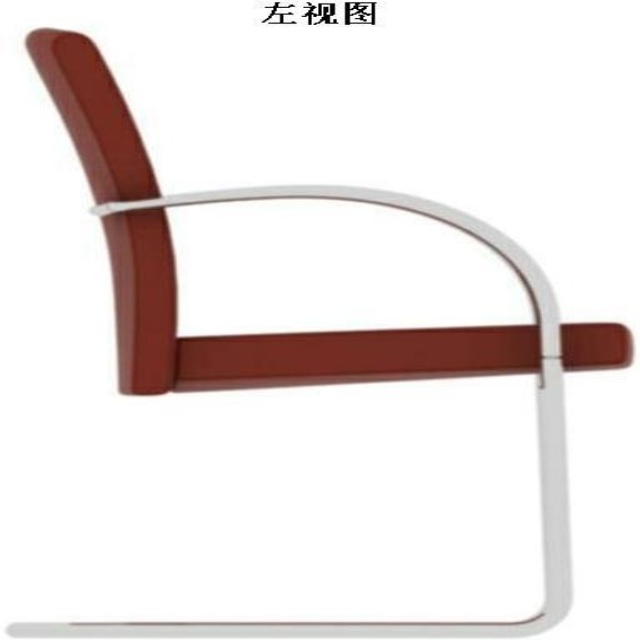obstacle: (10, 29, 625, 635)
